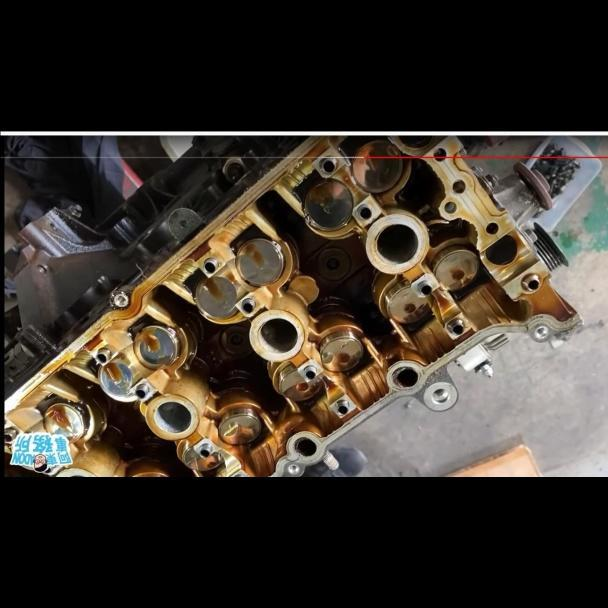hole: (448, 177, 468, 193), (430, 388, 449, 404), (111, 292, 131, 307), (484, 221, 499, 235), (444, 199, 457, 215), (533, 324, 547, 337), (287, 464, 301, 476), (36, 262, 45, 276)
